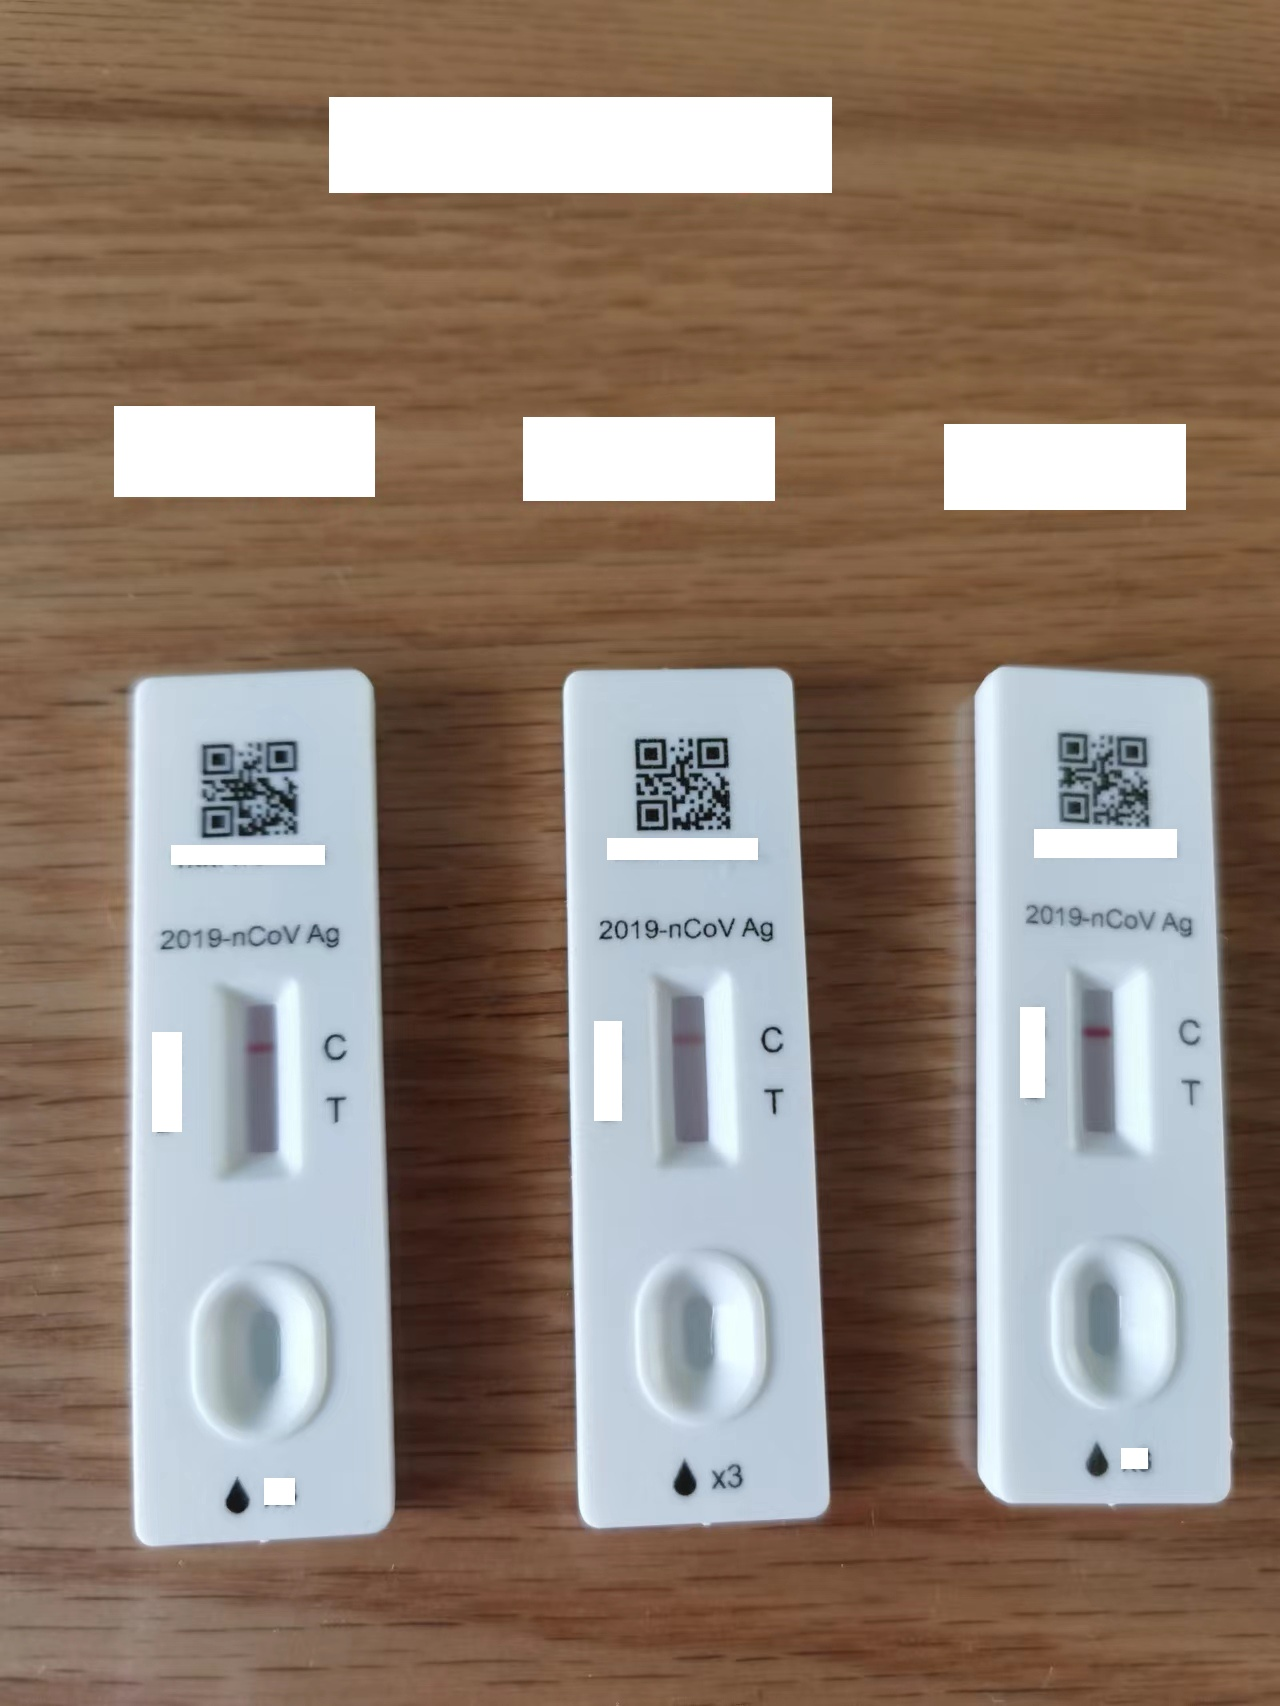negative: (214, 977, 294, 1186), (649, 969, 731, 1167), (1068, 963, 1146, 1157)
